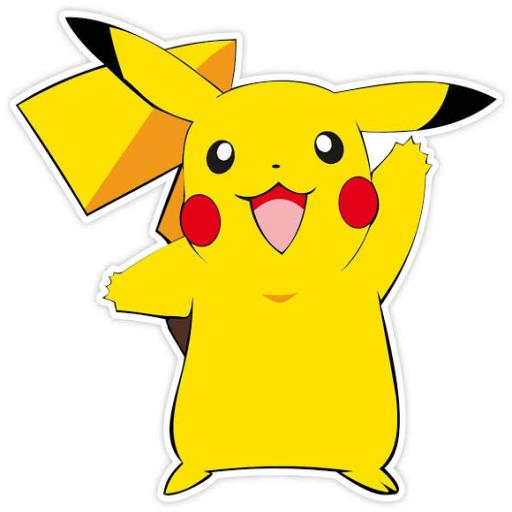Pikachu: (18, 12, 496, 498)
